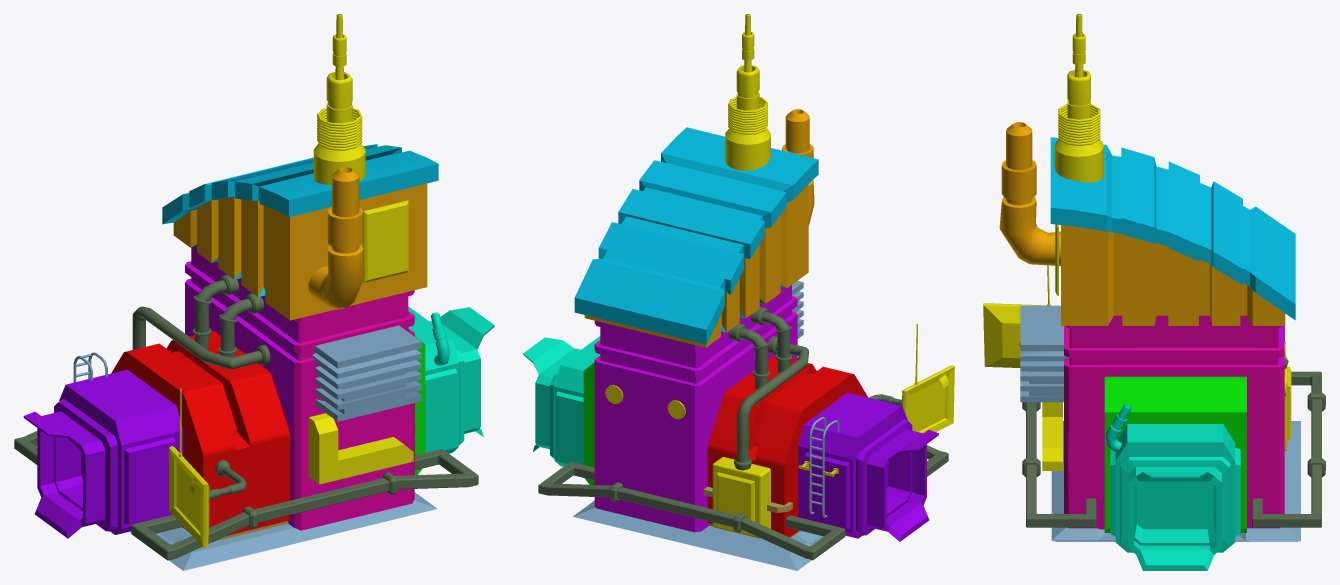
File: MESH_Fonderie_01.fbx
3 views of the same model, side by side, from view 1: azimuth 30°, elevation 25°; view 2: azimuth 150°, elevation 25°; view 3: azimuth 270°, elevation 25° (orthographic). The views are drawn at different scales.
Parts seen in each view (by area): view 1: MESH_Fonderie; view 2: MESH_Fonderie; view 3: MESH_Fonderie.
Boxes of the visible parts, box(x1,y1,x2,y2) form: MESH_Fonderie: box(14, 14, 494, 570); MESH_Fonderie: box(523, 14, 954, 570); MESH_Fonderie: box(983, 14, 1325, 570).
Size of the model in its own units: 10.01 by 10.83 by 6.9.
